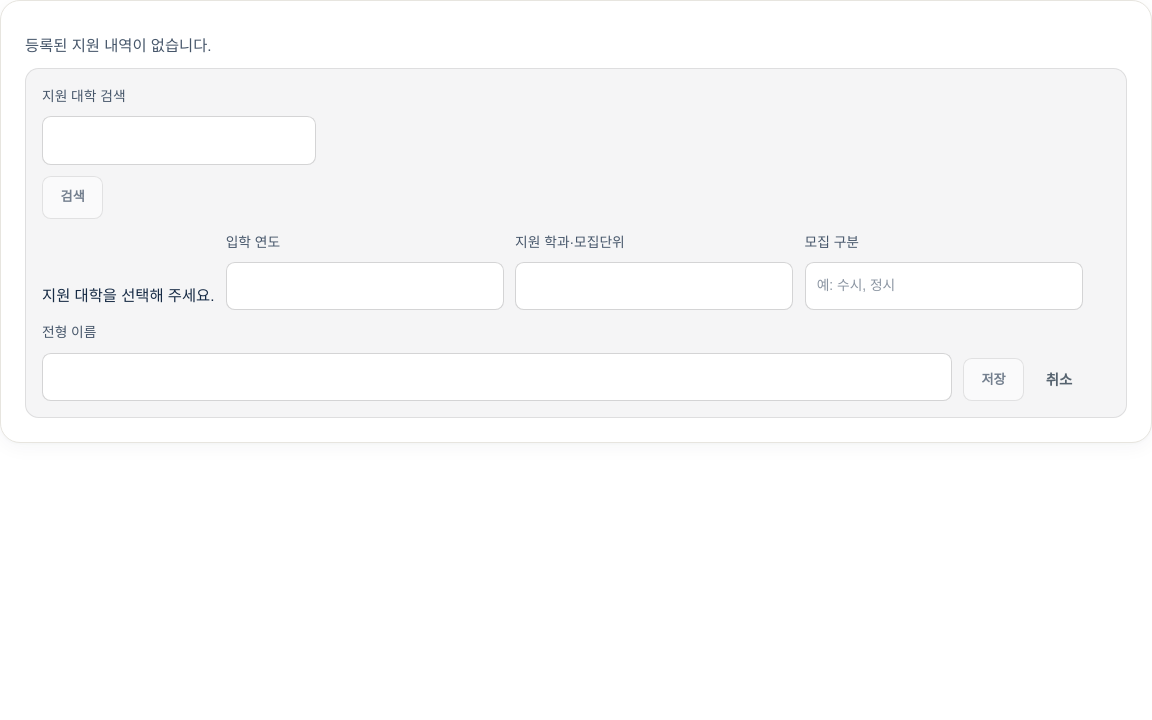
Test: adds an explicit application and retries an ambiguous save with the same key
Earlier steps of the test are not shown.
Later steps or results of the test are not shown.
In the field labelled "지원 대학 검색": (179, 140) [42,116,316,164], type "테스트"
Click the button "검색": (73, 197) [42,176,103,219]
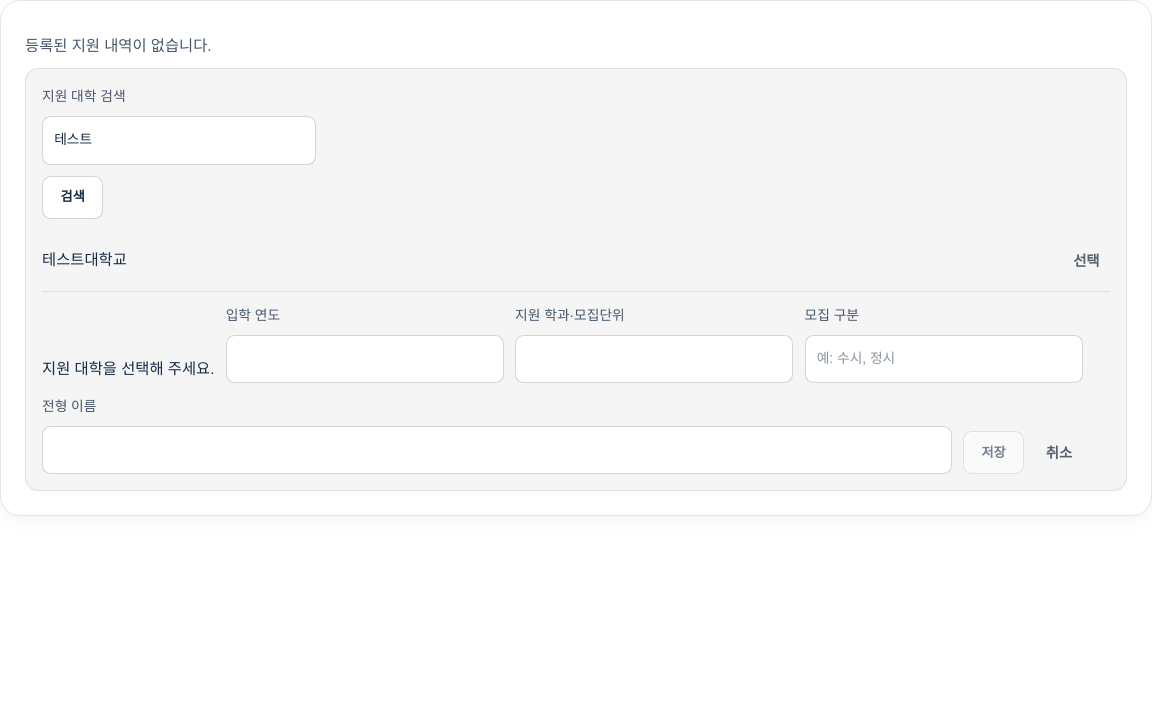
Click the button "선택": (1086, 261) [1063,242,1110,280]
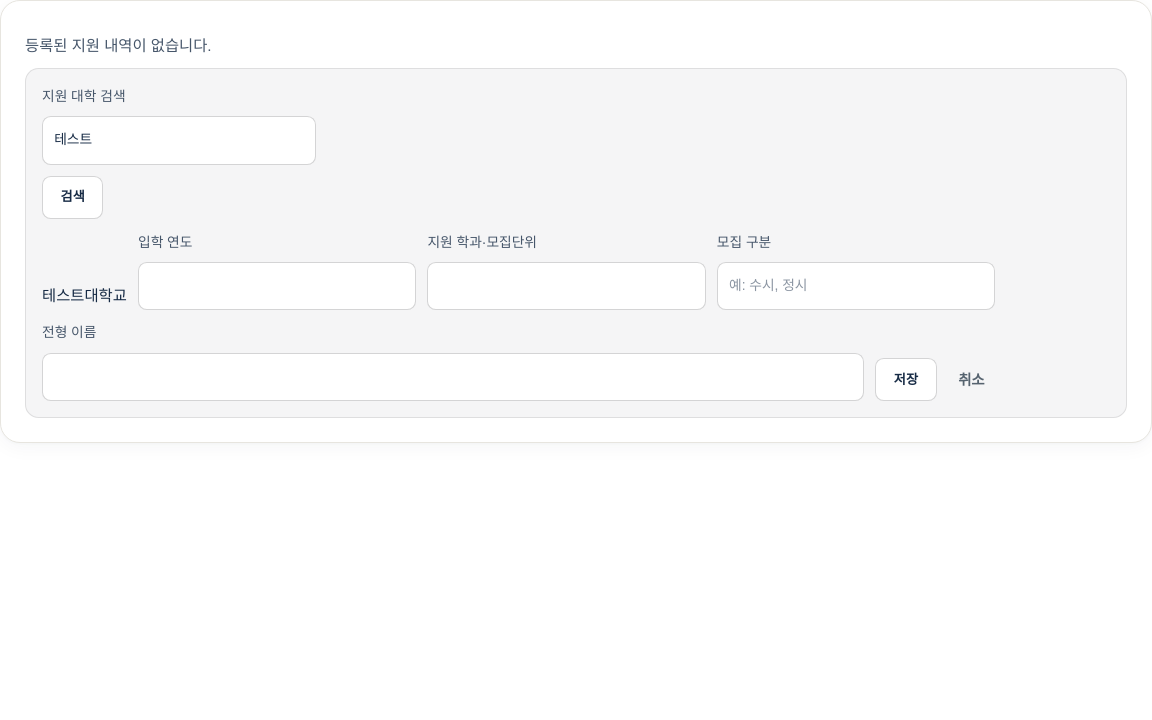
In the number field labelled "입학 연도": (277, 286) [138,262,416,310], type "2027"
In the field labelled "지원 학과·모집단위": (566, 286) [427,262,706,310], type "경영학과"
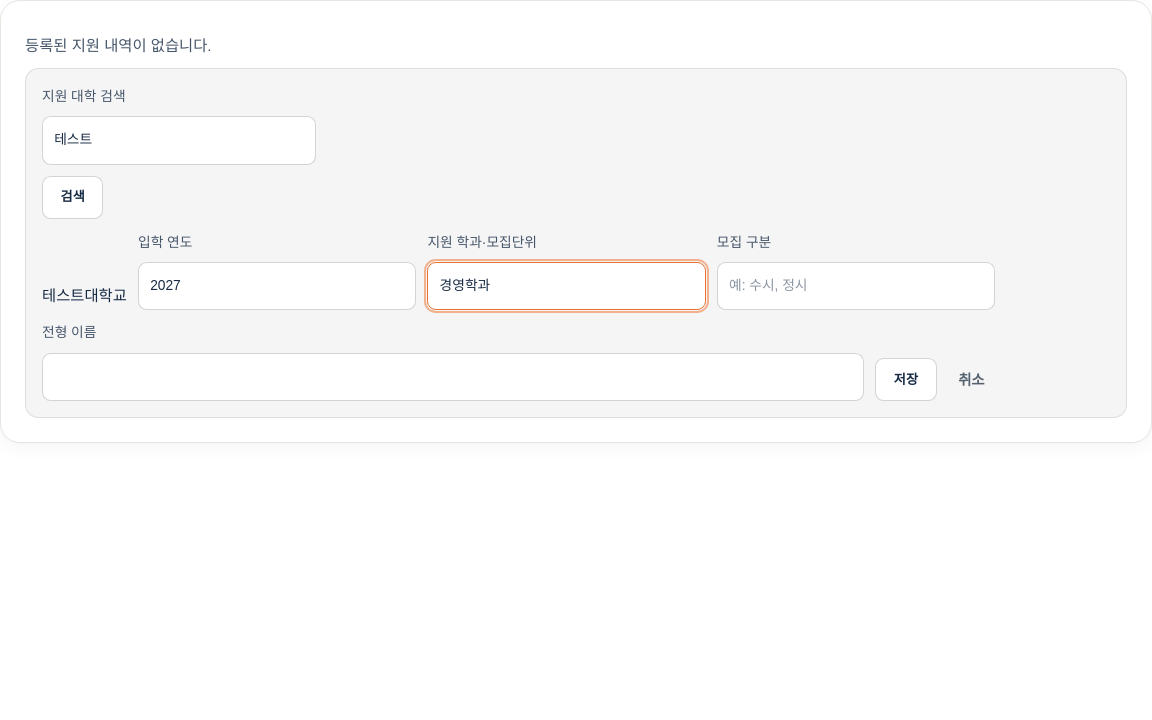
In the field labelled "모집 구분": (856, 286) [717,262,995,310], type "수시"
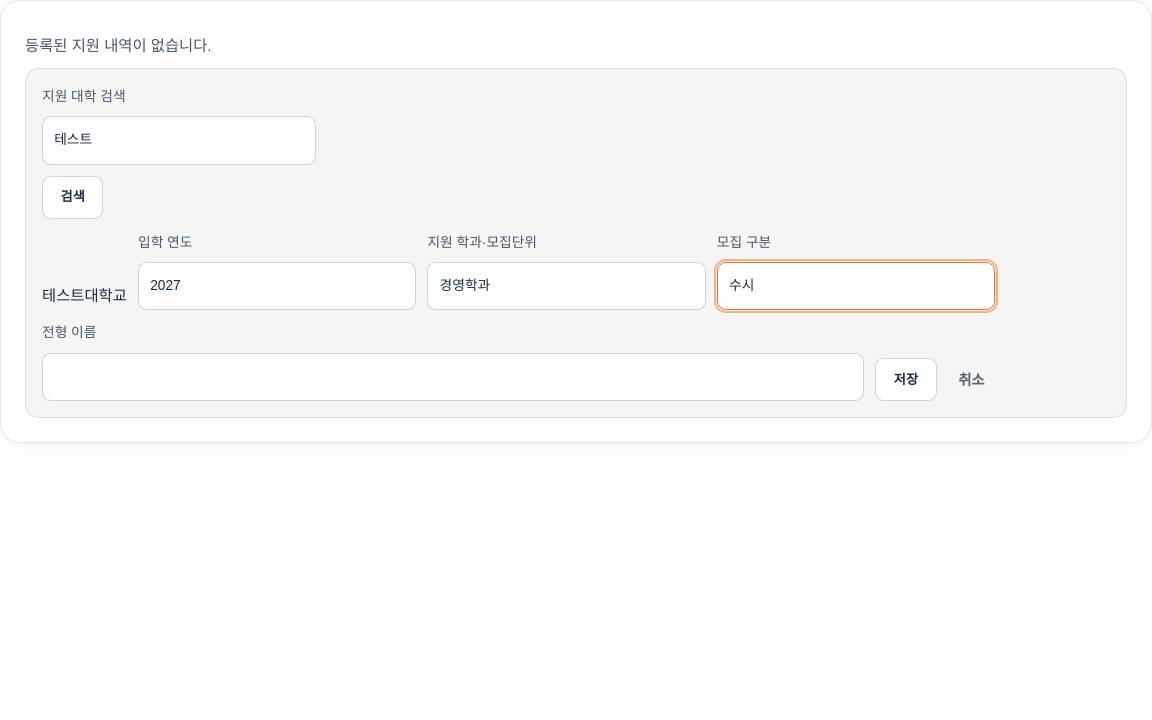
In the field labelled "전형 이름": (453, 377) [42,353,864,401], type "논술전형"
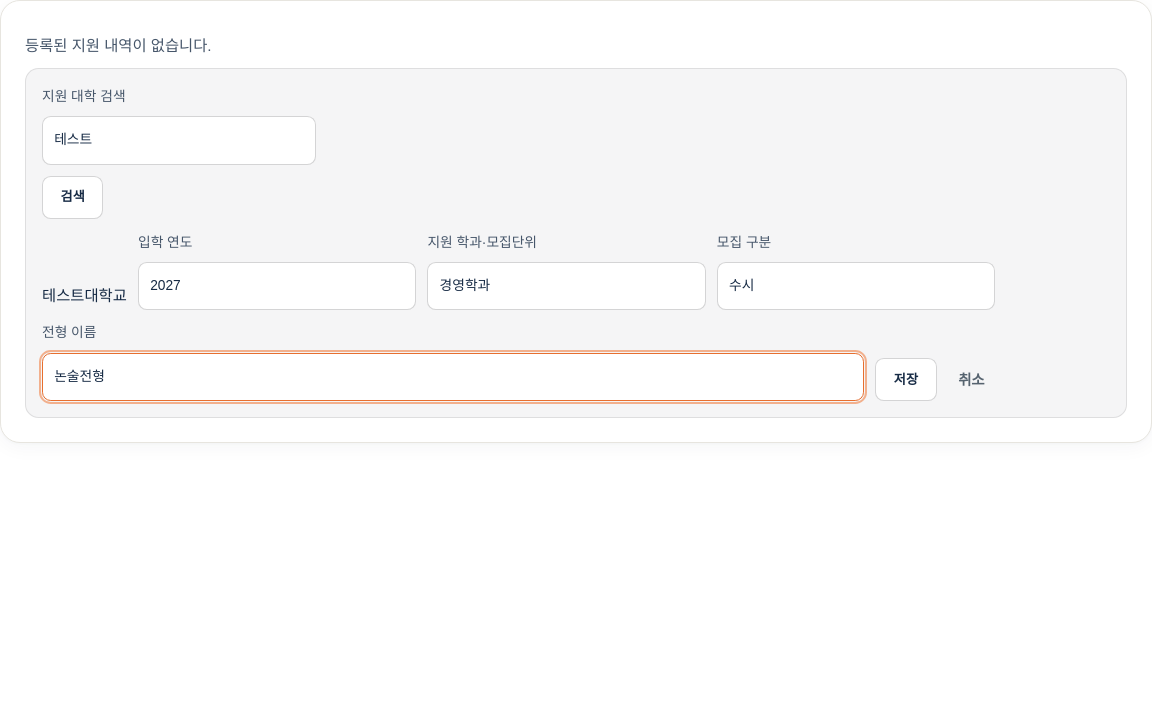
Click the button "저장": (906, 380) [875,358,936,401]
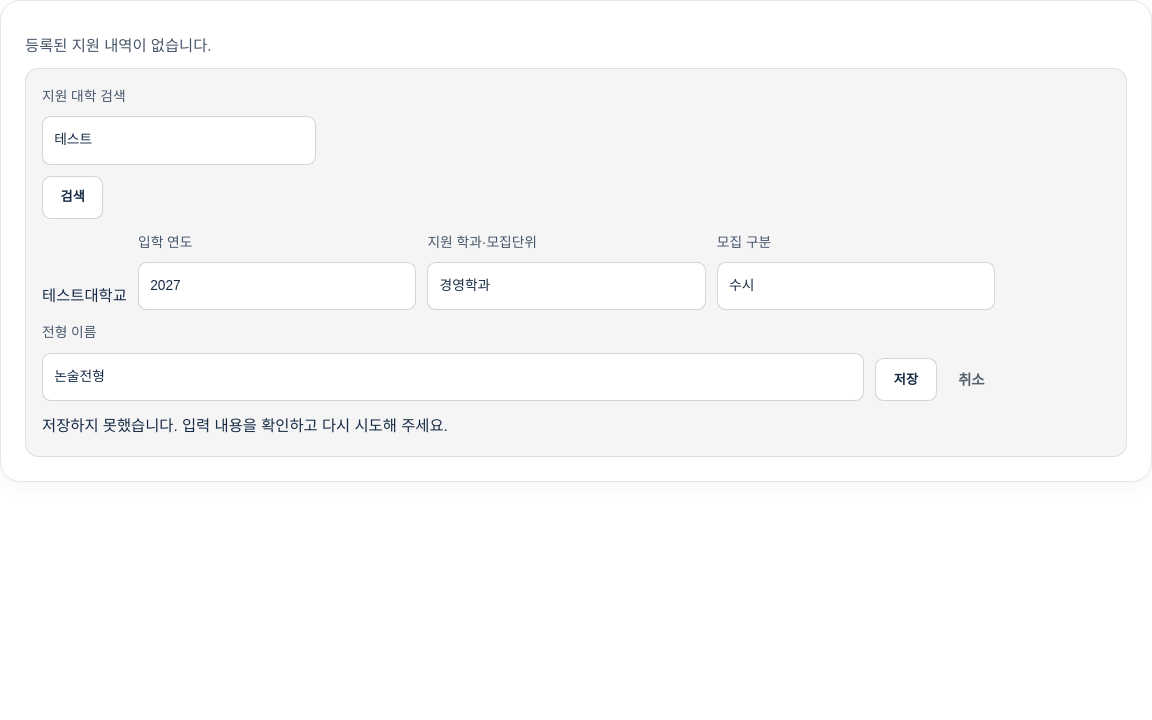
Now the message "저장하지 못했습니다. 입력 내용을 확인하고 다시 시도해 주세요." is shown, box [42,413,448,440]
